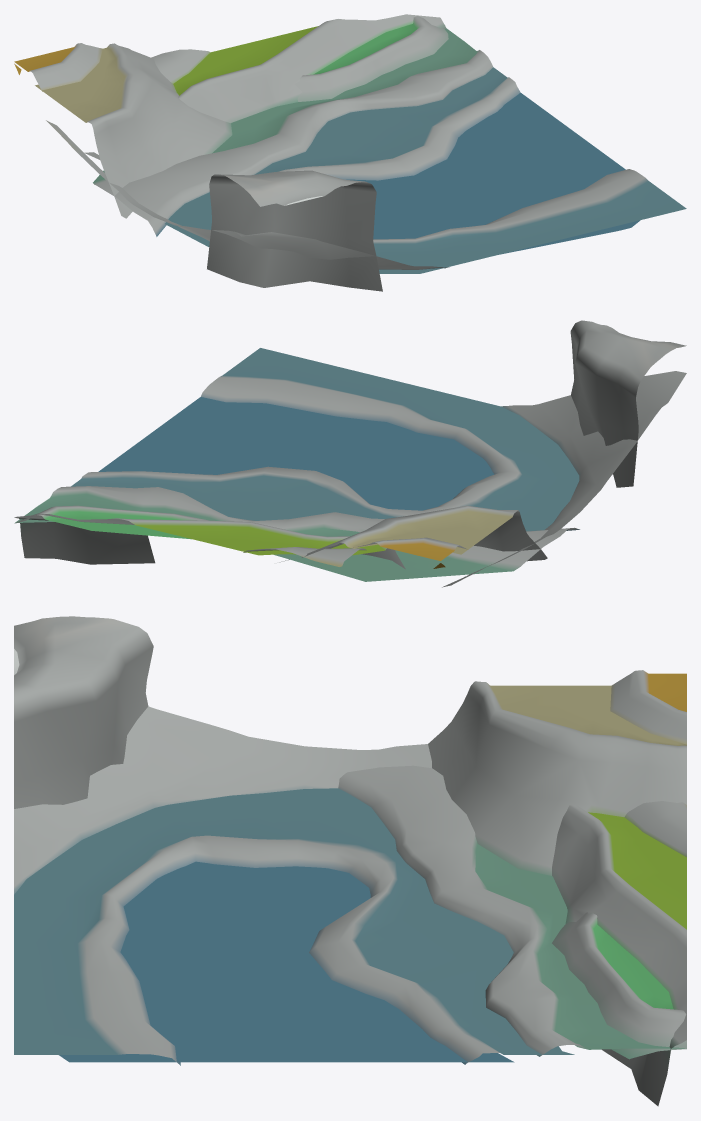
3 renders of one model, top to bottom at view 1: azimuth 30°, elevation 25°; view 2: azimuth 150°, elevation 25°; view 3: azimuth 270°, elevation 25°, orthographic. The views are drawn at different scales.
Visible parts, largest first — view 1: G:\FFXIV-MapTools\exports\e3f2\bg\ex2\02_est_e3\fld\e3f2\bgp (×5); view 2: G:\FFXIV-MapTools\exports\e3f2\bg\ex2\02_est_e3\fld\e3f2\bgp (×6); view 3: G:\FFXIV-MapTools\exports\e3f2\bg\ex2\02_est_e3\fld\e3f2\bgp (×6).
Boxes of the visible parts, x1,y1,x2,y2 form: G:\FFXIV-MapTools\exports\e3f2\bg\ex2\02_est_e3\fld\e3f2\bgp (×5): (14, 14, 686, 291); G:\FFXIV-MapTools\exports\e3f2\bg\ex2\02_est_e3\fld\e3f2\bgp (×6): (14, 320, 686, 587); G:\FFXIV-MapTools\exports\e3f2\bg\ex2\02_est_e3\fld\e3f2\bgp (×6): (14, 616, 686, 1106).
Bounding box in the file's own units: 128 × 43.2 × 128.
